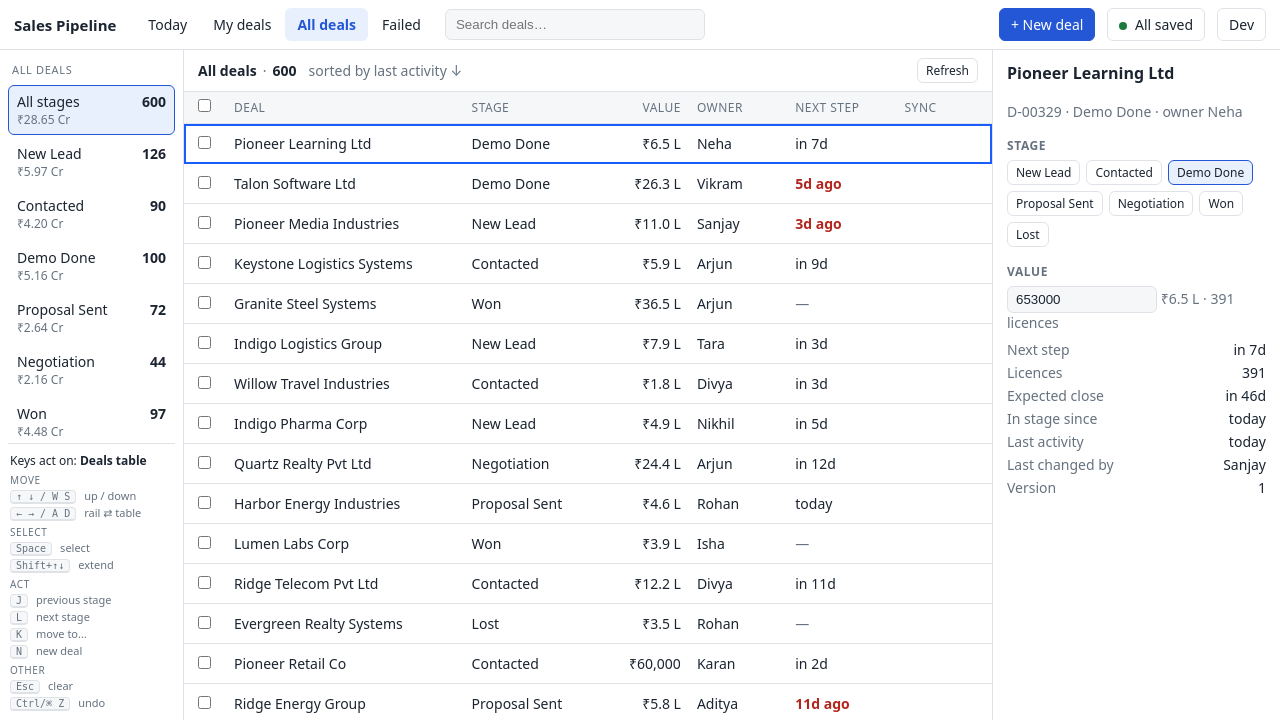
Scenario: grid accessibility and keyboard › one stage filter drives the filter bar, the rail highlight, the rail cursor and the rows › selecting a stage, then switching to Today, resets everything to "All stages"
Click the tab "My deals" at coordinates (242, 24), box [201,8,284,41]
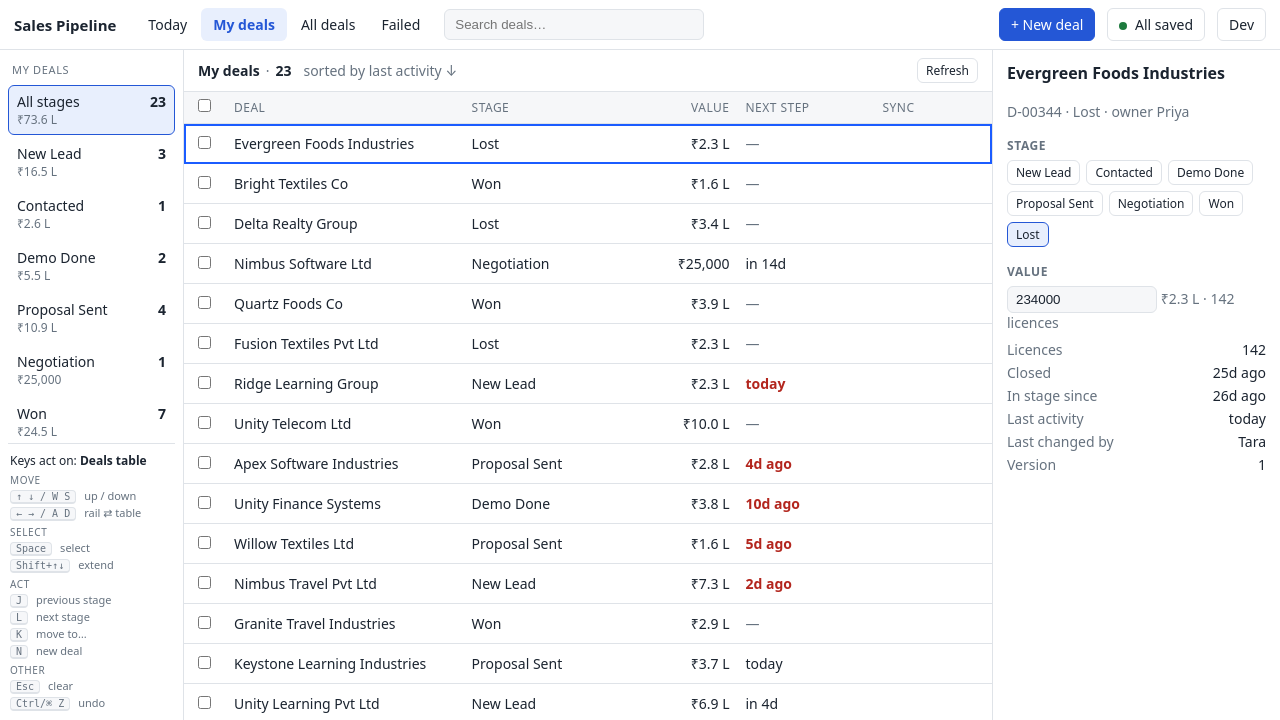
Click the button "Contacted 1 ₹2.6 L" at coordinates (92, 214), box [8,189,175,239]
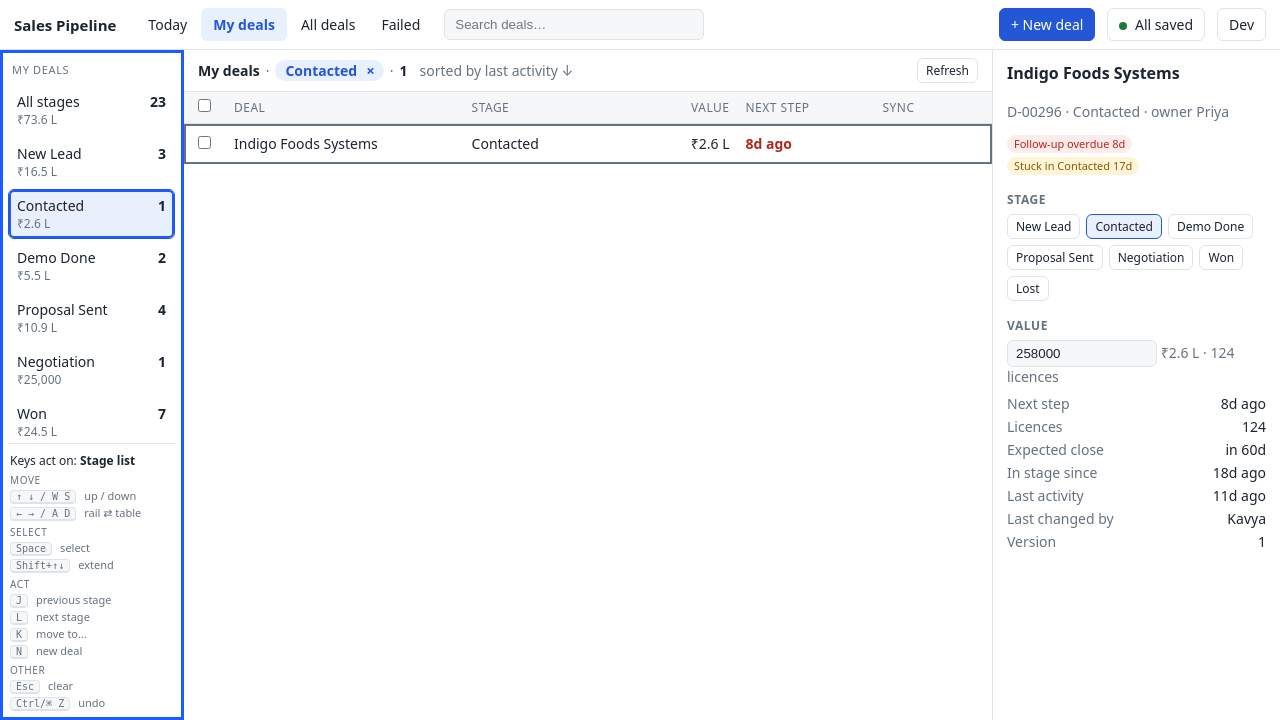
Click the tab "Today" at coordinates (168, 24), box [136,8,199,41]
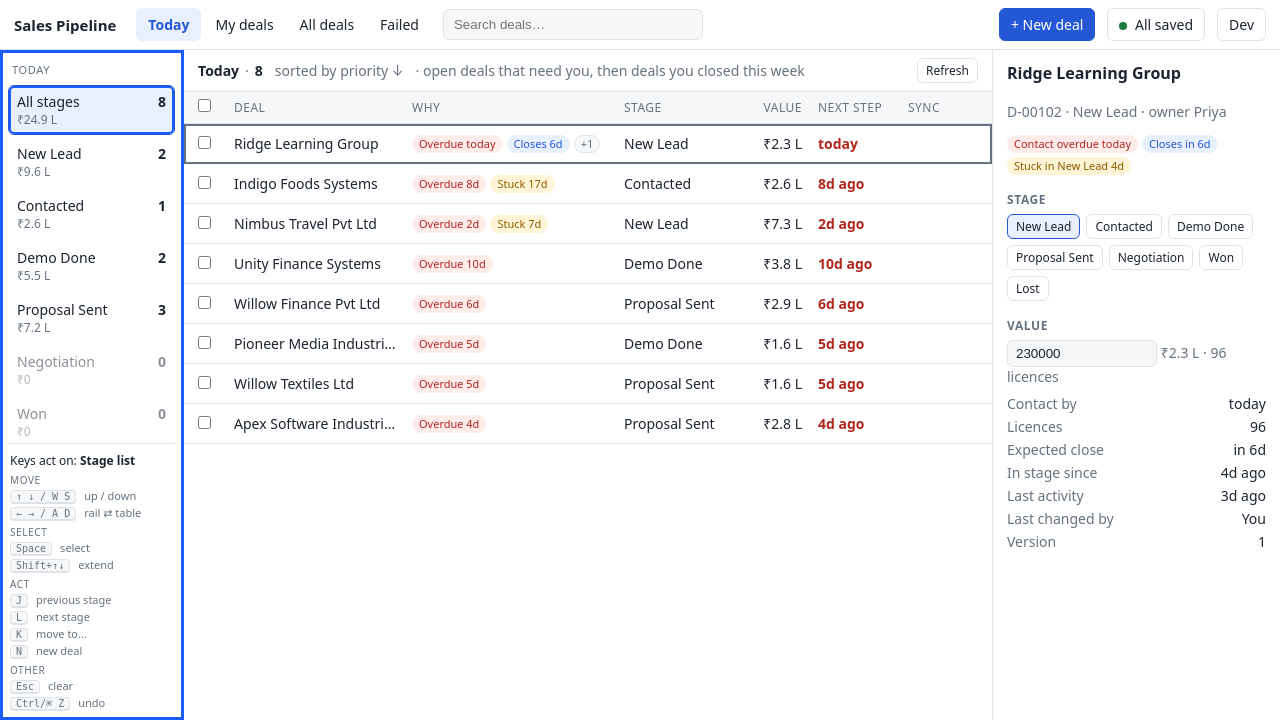
Check: the button "All stages 8 ₹24.9 L" is shown, box [8,85,175,135]
